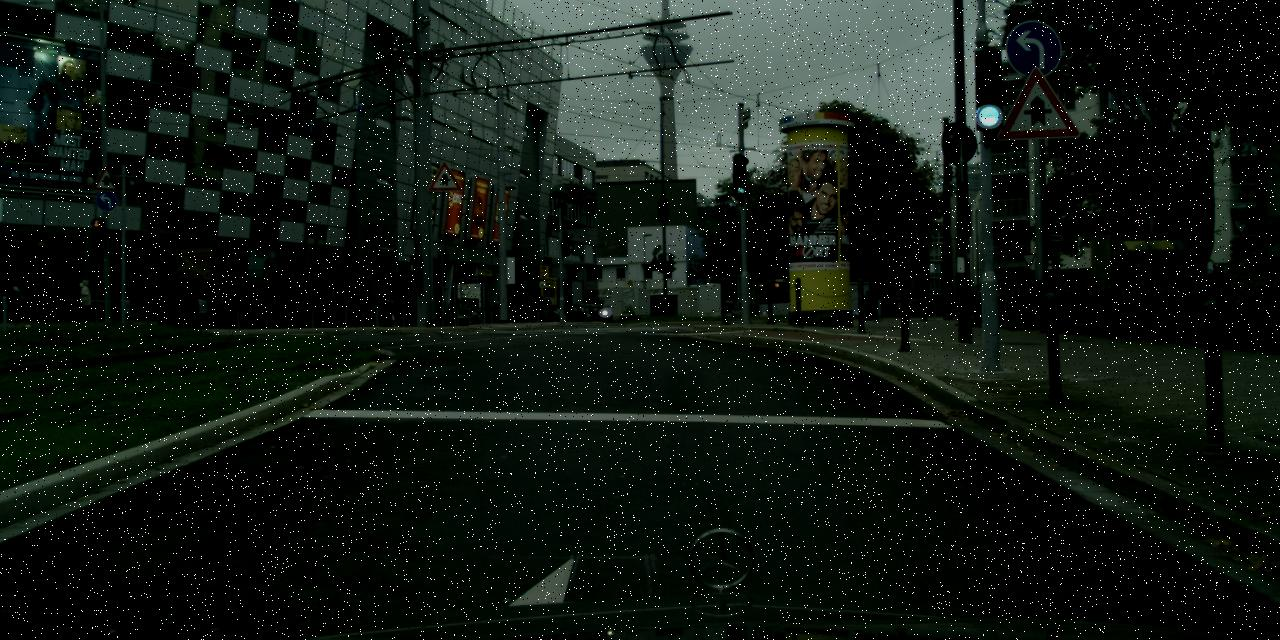ped: (5, 278, 22, 320), (76, 280, 92, 322), (14, 281, 29, 321), (862, 290, 872, 316), (863, 292, 873, 318)
